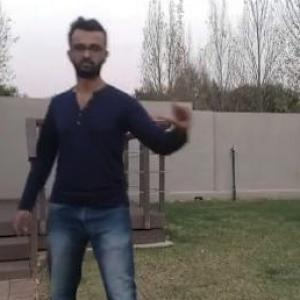land_hand: (154, 86, 201, 133)
